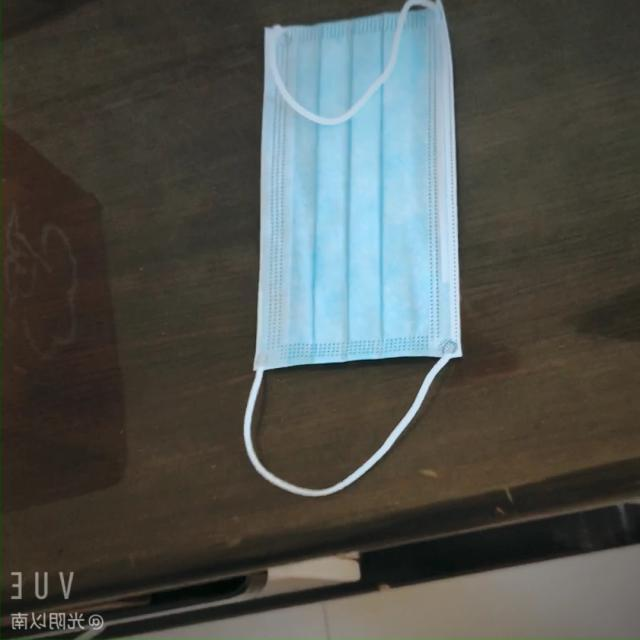face mask: (255, 15, 480, 390)
